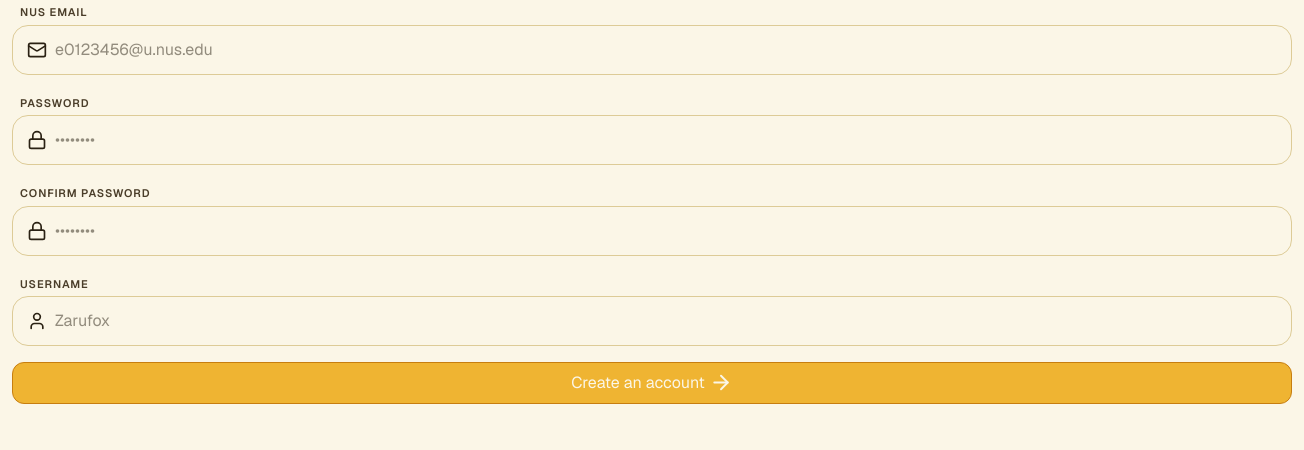
Scenario: RegisterForm › client side validation shows an error when the passwords do not match
Type "zarufox@u.nus.edu" into the field labelled "NUS EMAIL" at {"x": 669, "y": 50}, box [47,30,1291,70]
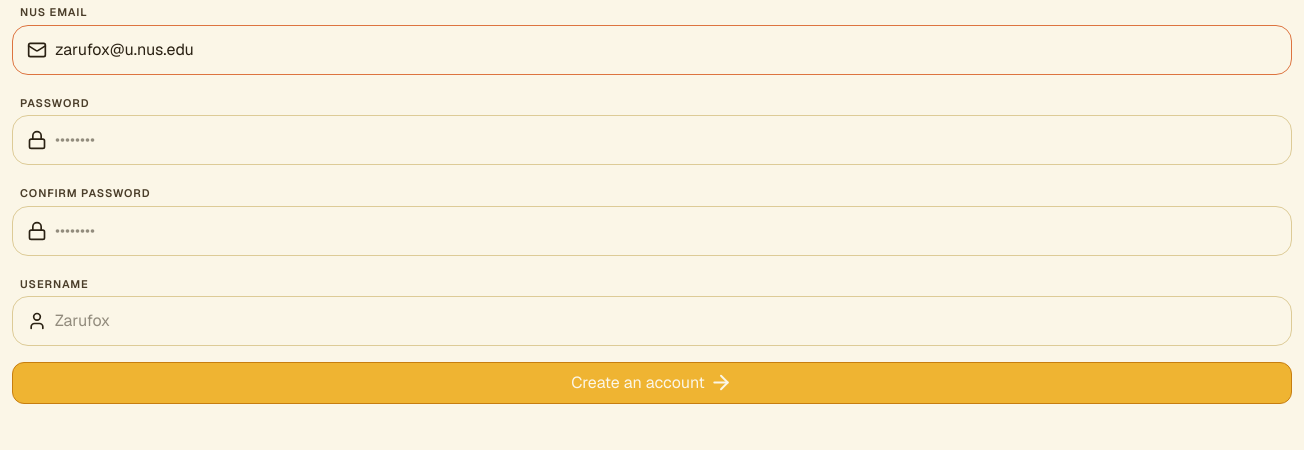
Type "password123" into the password field labelled "PASSWORD" at {"x": 669, "y": 140}, box [47,120,1291,160]
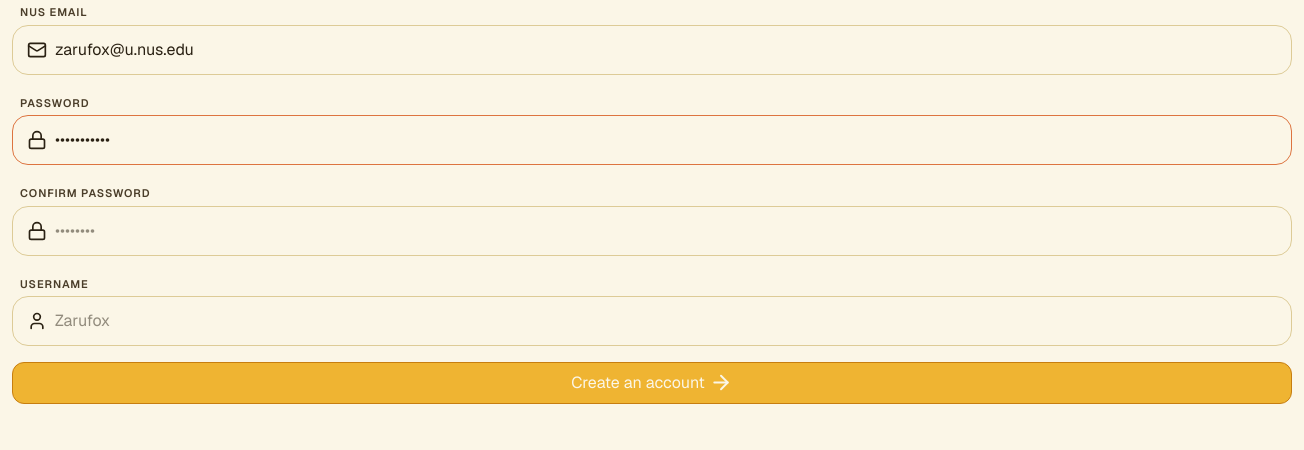
Type "password1234" into the password field labelled "CONFIRM PASSWORD" at {"x": 669, "y": 230}, box [47,210,1291,250]
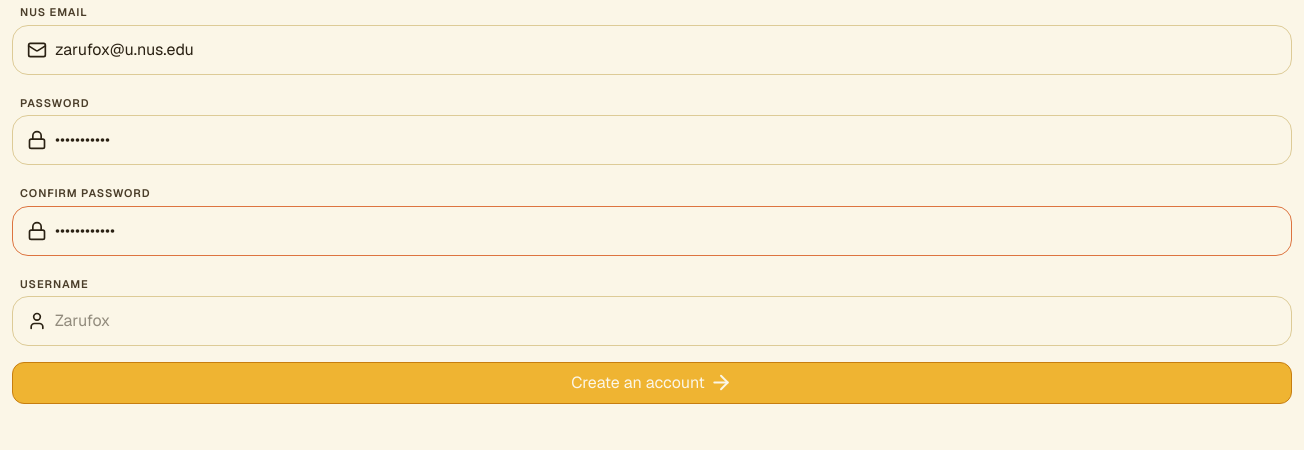
Type "Zaru" into the field labelled "USERNAME" at {"x": 669, "y": 321}, box [47,301,1291,341]
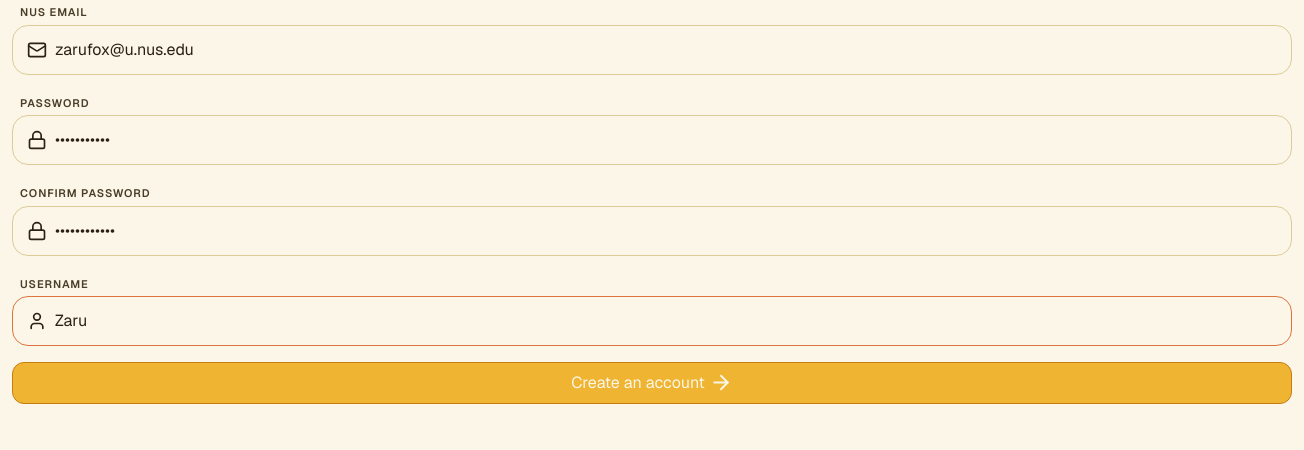
Click the button "Create an account" at {"x": 652, "y": 383}, box [12,362,1292,404]
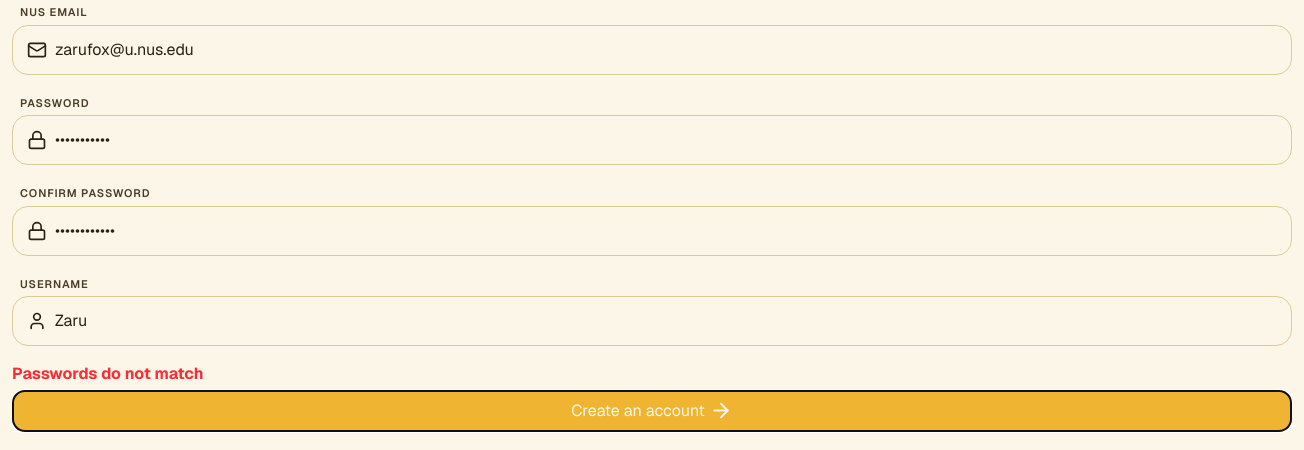
expect the text "Passwords do not match" is shown: met, box [12,363,204,384]
